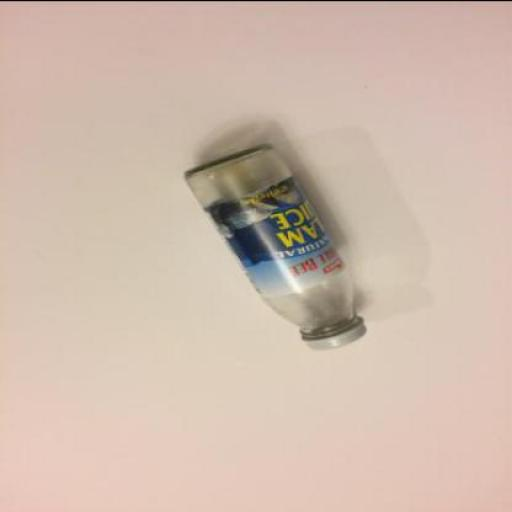glass: (183, 145, 355, 336)
metal: (299, 321, 366, 349)
